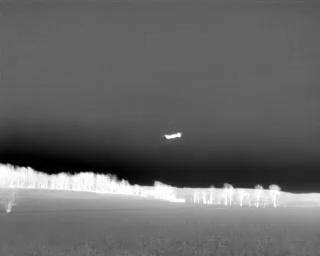DRONE: (160, 126, 188, 148)
